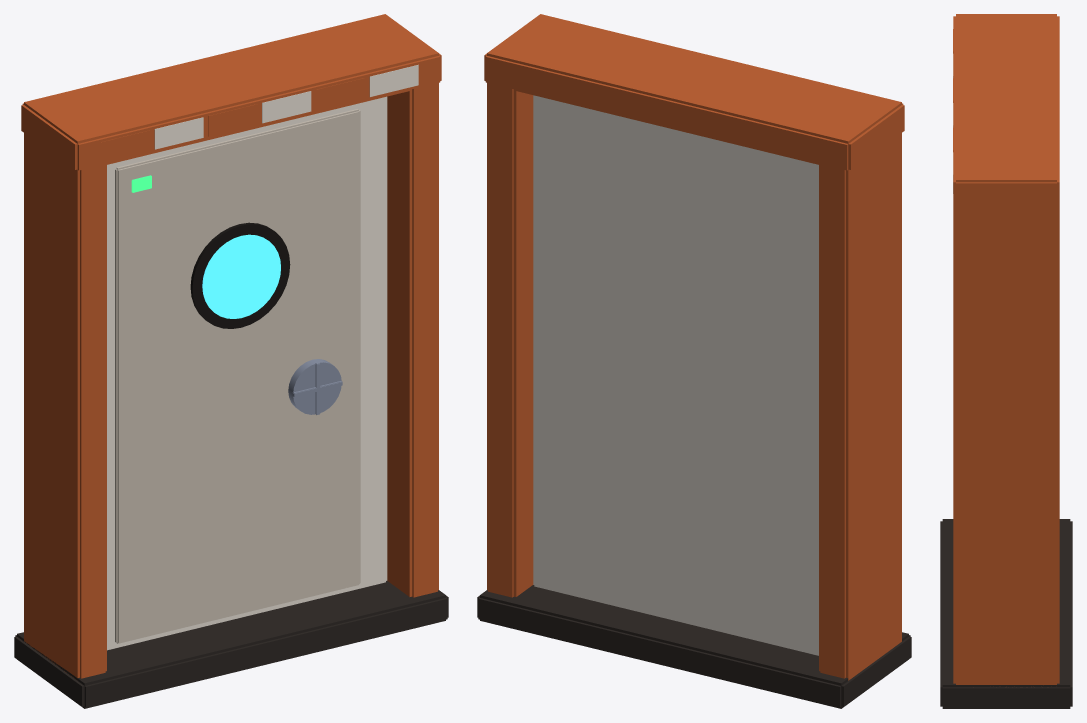
Rendered from airlock.glb.
3 renders of one model, left to right at view 1: azimuth 30°, elevation 25°; view 2: azimuth 150°, elevation 25°; view 3: azimuth 270°, elevation 25°, orthographic. The views are drawn at different scales.
Visible parts, largest first — view 1: Body_Dim, Trim_Rust, Body_White, Base_Basalt, Gauge_Emissive, Dark_Panel, Steel; view 2: Body_White, Trim_Rust, Base_Basalt; view 3: Trim_Rust, Base_Basalt.
Part boxes in pixels (x1,y1,x2,y2): Body_Dim: (115,109,360,643); Trim_Rust: (21,14,441,678); Body_White: (107,64,418,650); Base_Basalt: (14,581,448,708); Gauge_Emissive: (202,234,280,318); Dark_Panel: (190,222,290,328); Steel: (288,359,342,414); Body_White: (533,95,818,655); Trim_Rust: (484,14,904,680); Base_Basalt: (477,585,911,708); Trim_Rust: (953,14,1059,684); Base_Basalt: (940,519,1072,708).
Bounding box in the file's own units: 1.5 × 2.2 × 0.5.
